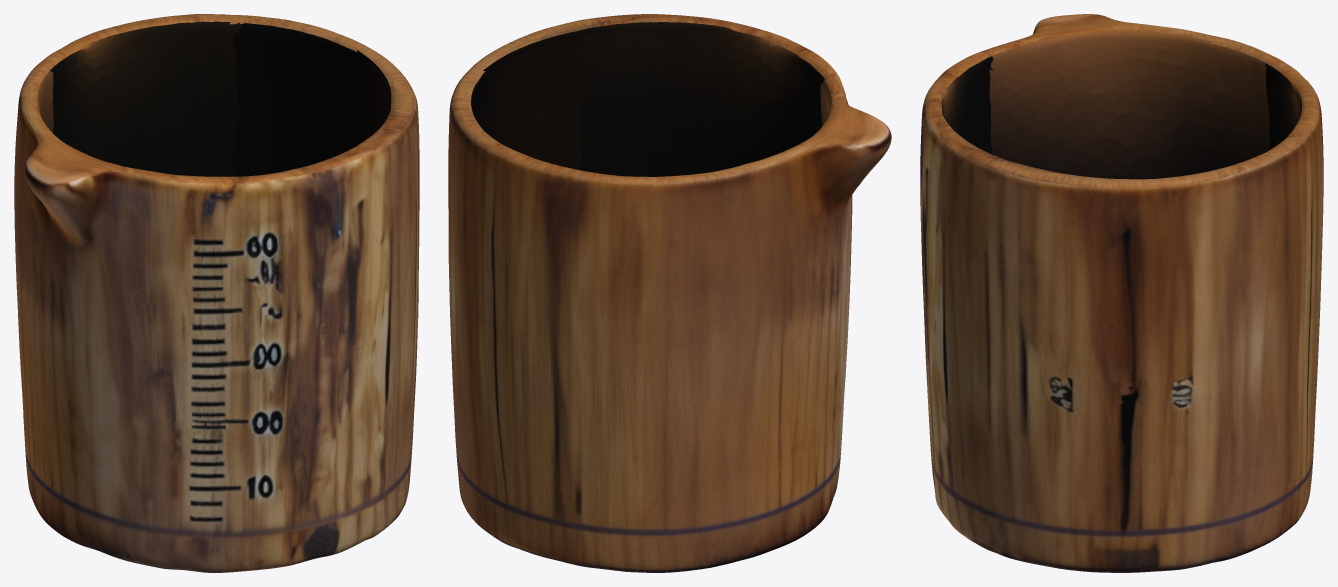
3 views of the same model, side by side, from view 1: azimuth 30°, elevation 25°; view 2: azimuth 150°, elevation 25°; view 3: azimuth 270°, elevation 25° (orthographic).
Parts seen in each view (by area): view 1: tmpob8j1olr.ply; view 2: tmpob8j1olr.ply; view 3: tmpob8j1olr.ply.
Part boxes in pixels (box(x1,y1,x2,y2)): tmpob8j1olr.ply: box(14, 14, 419, 572); tmpob8j1olr.ply: box(448, 14, 891, 572); tmpob8j1olr.ply: box(920, 14, 1323, 572).
Size of the model in its own units: 1.99 by 1.99 by 1.85.
Materials: 1 (1 with a texture image).
